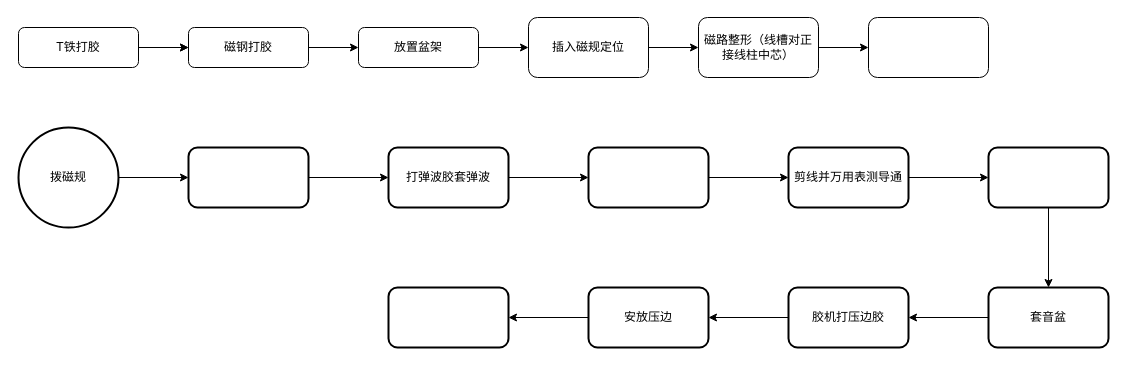
Image size: 1126x366. Some labels were removed from this diagram. The shapes that lost their labels are listed below. From the top down, each one's centre as x and y in pixels, then its label:
At (928,47): "摆放（注意移位）".
At (248,177): "插音圈".
At (648,177): "焊音圈线".
At (1048,177): "打中心胶和边胶".
At (448,317): "摆放".
